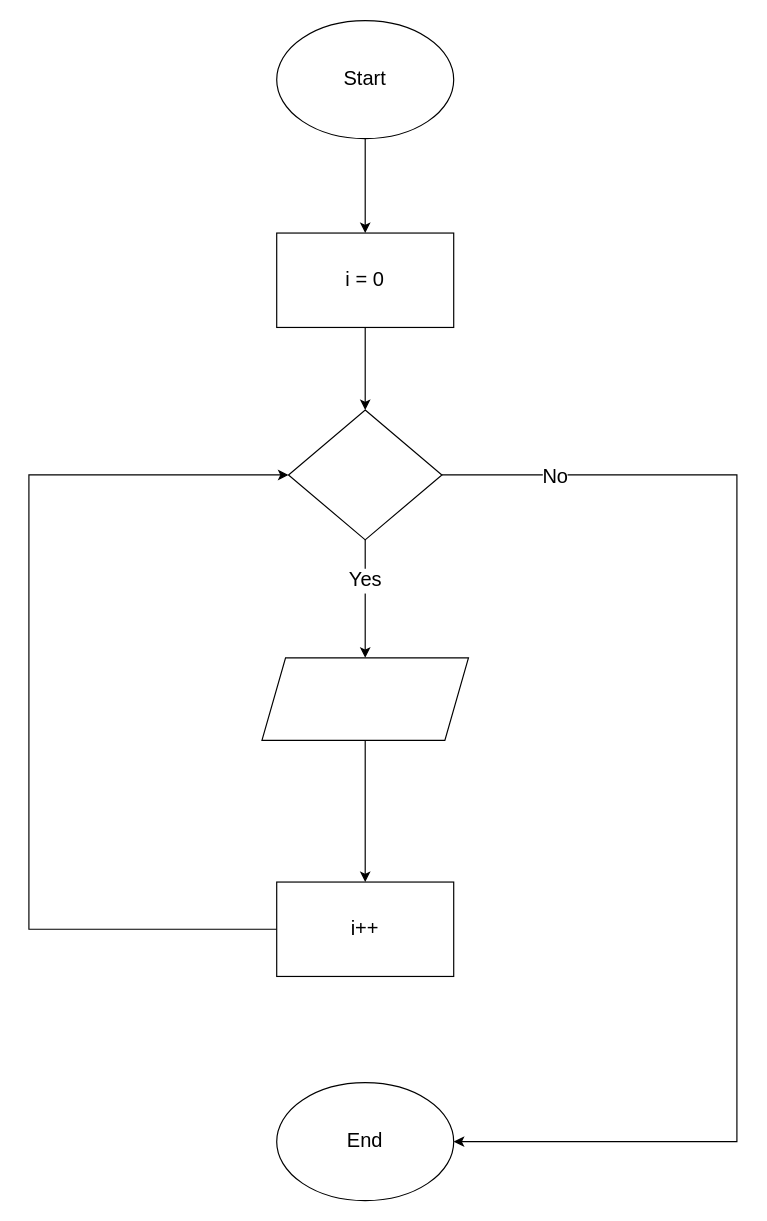
Some shapes in this 767 by 1221 pixel diagram are drawn without their labels. Each missing label, with the centre of its shape:
is i < 10 ?: (364,474)
Print: "Hello World": (364,698)
